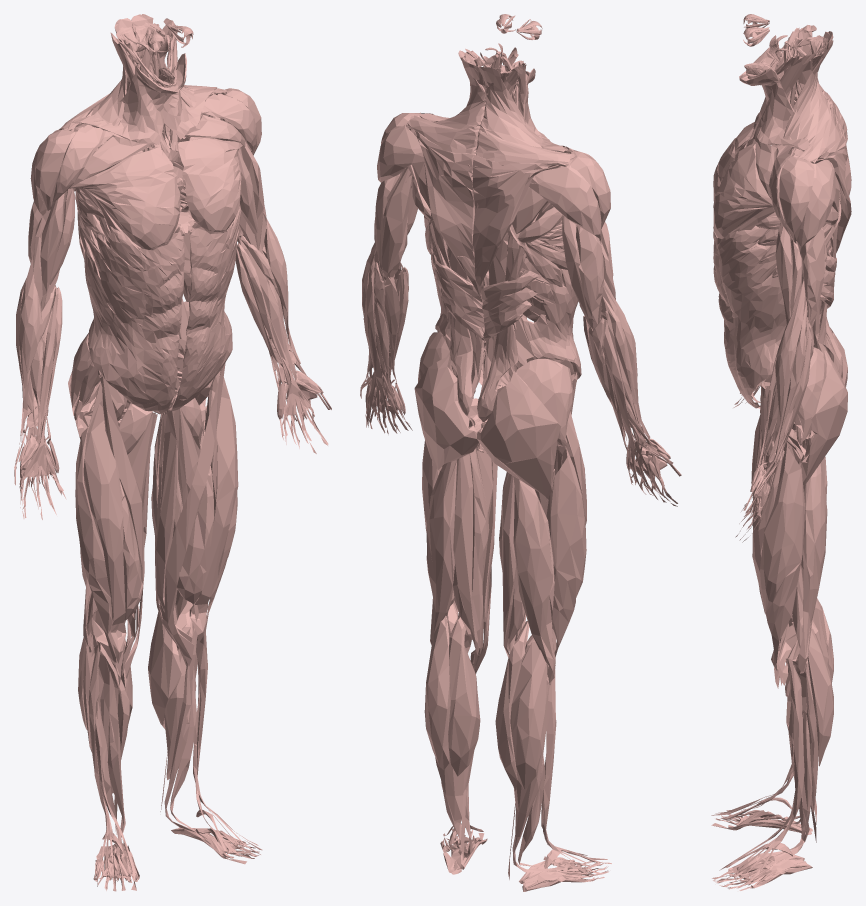
The model's file is muscles.glb.
3 views of the same model, side by side, from view 1: azimuth 30°, elevation 25°; view 2: azimuth 150°, elevation 25°; view 3: azimuth 270°, elevation 25° (orthographic).
Parts seen in each view (by area): view 1: muscular-0; view 2: muscular-0; view 3: muscular-0.
Part boxes in pixels (x1,y1,x2,y2): muscular-0: [14, 14, 331, 891]; muscular-0: [360, 14, 681, 891]; muscular-0: [711, 14, 851, 890].
Size of the model in its own units: 0.6386 by 1.61 by 0.2475.
